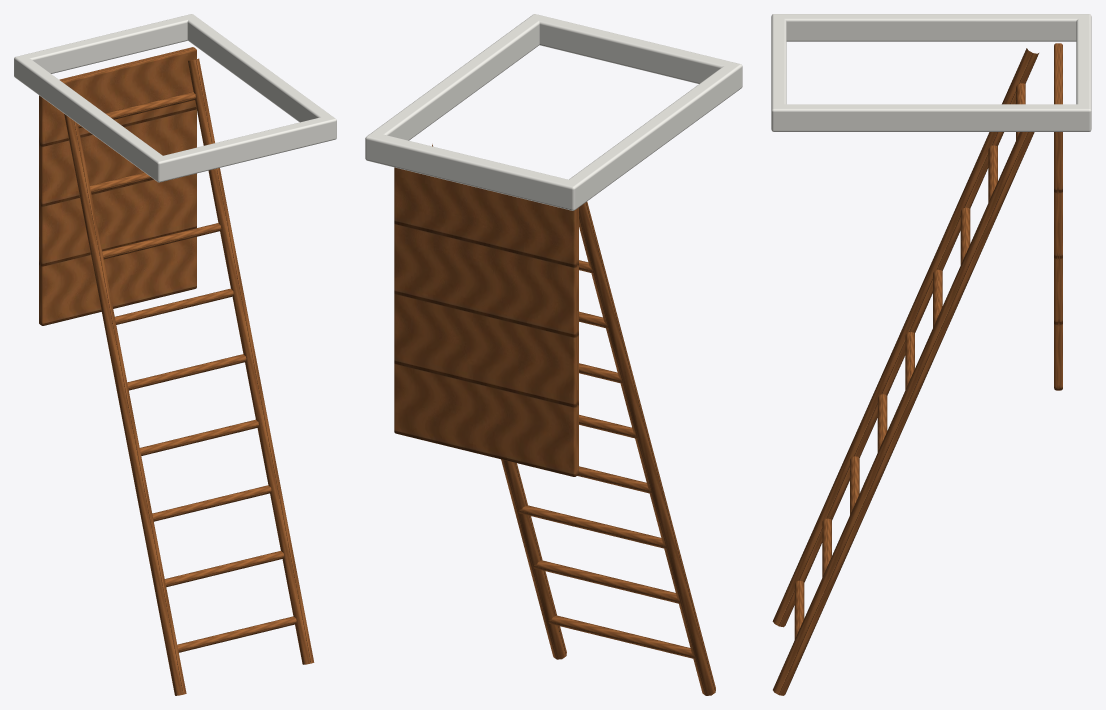
Rendered from paranormal-investigation-house-attic-hatch-ladder-da386b81__26697.glb.
The picture shows the model from 3 angles, left to right: view 1: azimuth 30°, elevation 25°; view 2: azimuth 150°, elevation 25°; view 3: azimuth 270°, elevation 25°; orthographic projection. The views are drawn at different scales.
Visible parts, largest first — view 1: attic-hatch-ladder, hatch; view 2: hatch, attic-hatch-ladder; view 3: attic-hatch-ladder, hatch.
Part boxes in pixels (<box>): attic-hatch-ladder: <box>14,14,336,695</box>; hatch: <box>39,47,196,325</box>; hatch: <box>394,167,578,476</box>; attic-hatch-ladder: <box>365,14,742,695</box>; attic-hatch-ladder: <box>771,14,1091,695</box>; hatch: <box>1054,43,1062,390</box>.
Bounding box in the file's own units: 0.9 × 2.6 × 1.26.
Materials: 2 (1 with a texture image).
